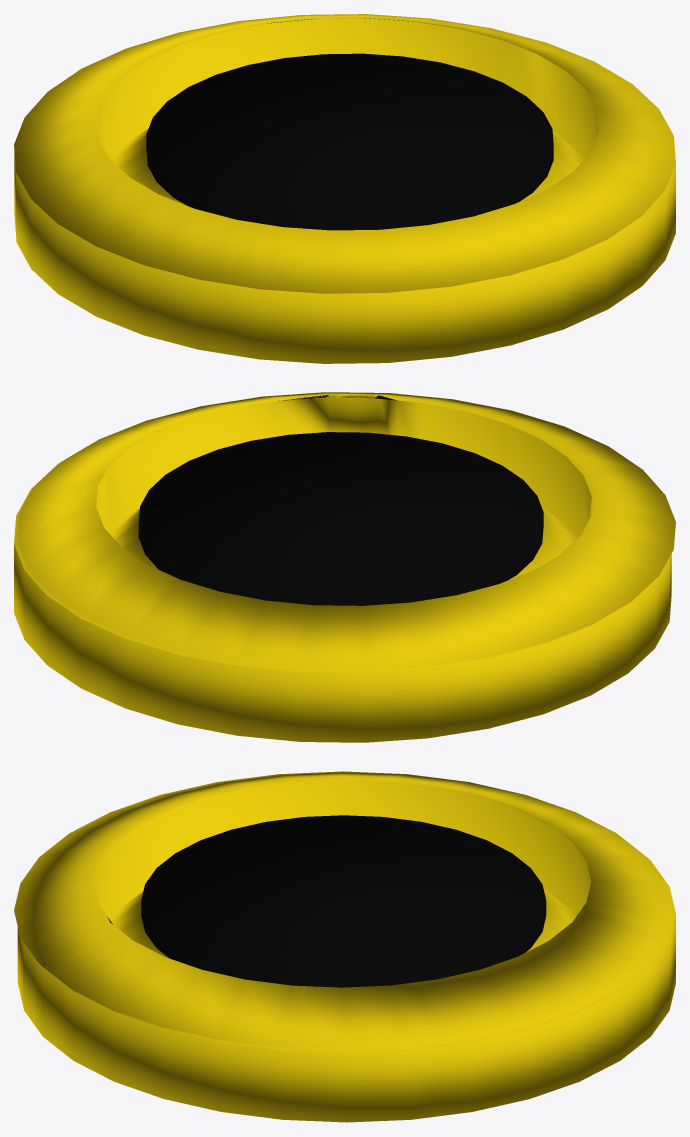
File: ypressed.fbx
The picture shows the model from 3 angles, top to bottom: view 1: azimuth 30°, elevation 25°; view 2: azimuth 150°, elevation 25°; view 3: azimuth 270°, elevation 25°; orthographic projection.
Visible parts, largest first — view 1: Cylinder.003; view 2: Cylinder.003; view 3: Cylinder.003.
Boxes of the visible parts, left/top/right/bottom form: Cylinder.003: left=14, top=14, right=675, bottom=363; Cylinder.003: left=14, top=392, right=675, bottom=742; Cylinder.003: left=14, top=771, right=675, bottom=1122.
Size of the model in its own units: 201 by 33.98 by 201.
